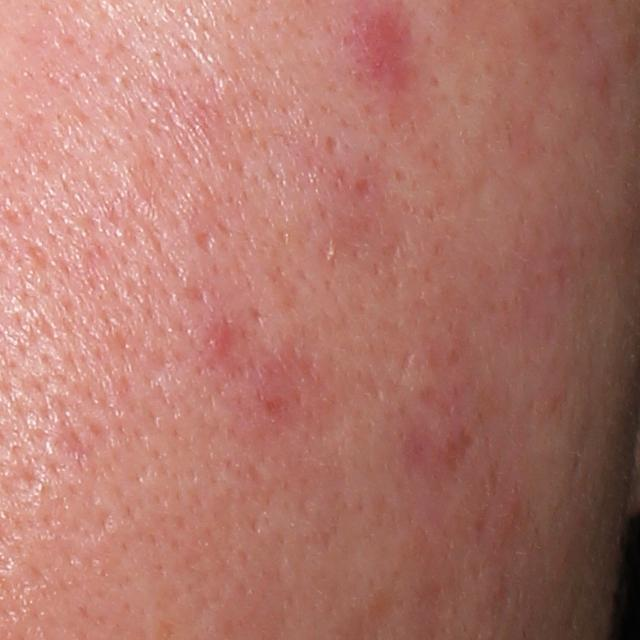atrophic_scar: (124, 156, 160, 215), (193, 231, 214, 255)
papule: (200, 323, 235, 359)
